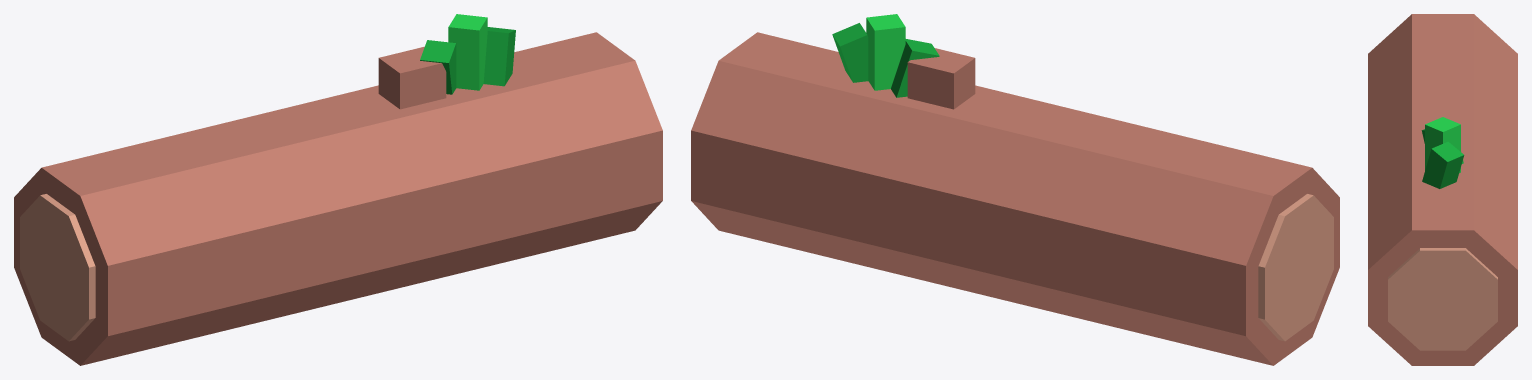
Rendered from Log.fbx.
3 renders of one model, left to right at view 1: azimuth 30°, elevation 25°; view 2: azimuth 150°, elevation 25°; view 3: azimuth 270°, elevation 25°, orthographic. The views are drawn at different scales.
Parts seen in each view (by area): view 1: Wood.001, WoodLight, GrassDark.006, Grass.006; view 2: Wood.001, WoodLight, GrassDark.006, Grass.006; view 3: Wood.001, WoodLight, GrassDark.006, Grass.006.
Part boxes in pixels (x1,y1,x2,y2): Wood.001: (14,32,662,365); WoodLight: (20,194,95,341); GrassDark.006: (420,27,515,94); Grass.006: (448,14,487,90); Wood.001: (691,32,1339,365); WoodLight: (1258,194,1333,341); GrassDark.006: (832,23,939,97); Grass.006: (866,14,905,90); Wood.001: (1368,14,1517,365); WoodLight: (1388,248,1497,350); GrassDark.006: (1421,129,1464,188); Grass.006: (1425,117,1460,172).
Size of the model in its own units: 6.14 by 2.38 by 1.76.
